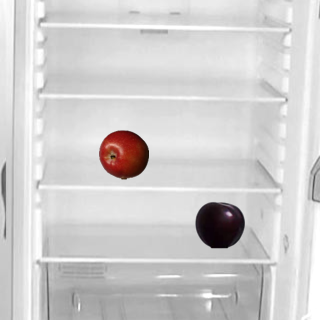Apple Braeburn: (98, 129, 148, 179)
Cherry Wax Black: (194, 199, 244, 249)
